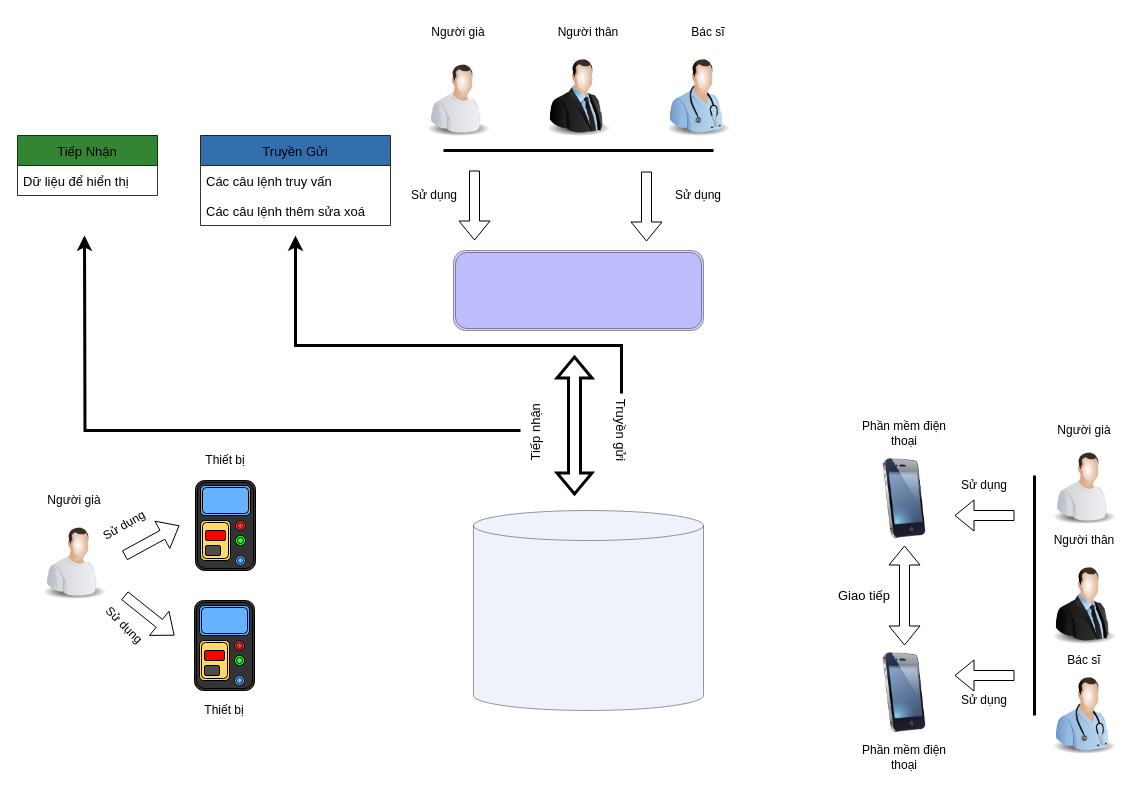
Image size: 1142x789. Some labels were removed from this diagram. The shapes that lost their labels are listed below. From the top down, each one's box as (x1, y1, x2, y2) in pixels, then its label:
(452, 250, 704, 330): WebPage
(472, 510, 704, 710): Server
